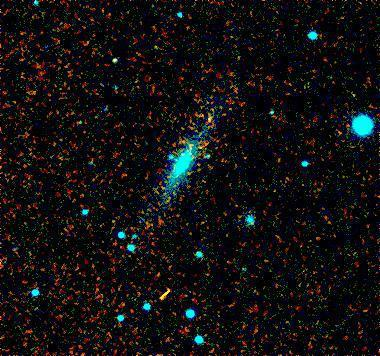star: (195, 105, 225, 135)
